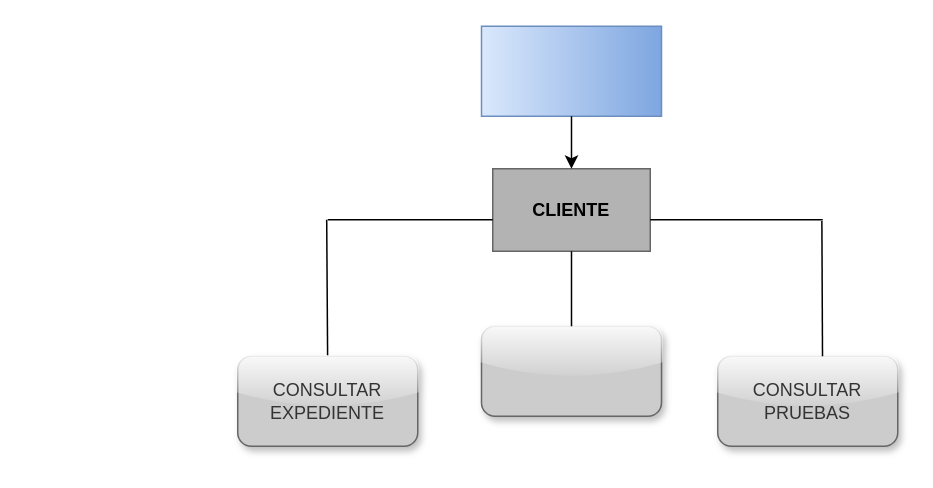
This 933x488 diagram has some shape labels left out. Here are the shapes that lost their labels. From the top down, the centre of each, then its label:
point 571,70: INDEX
point 572,373: CONSULTAR CITAS
